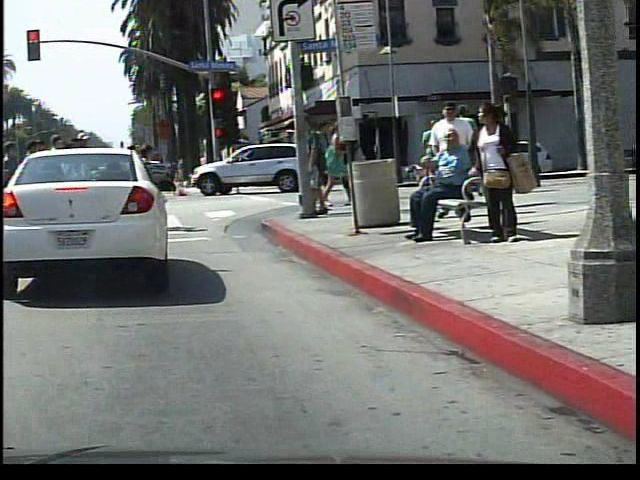person: (461, 100, 528, 240), (402, 129, 476, 250), (315, 116, 358, 209), (213, 146, 239, 197)
